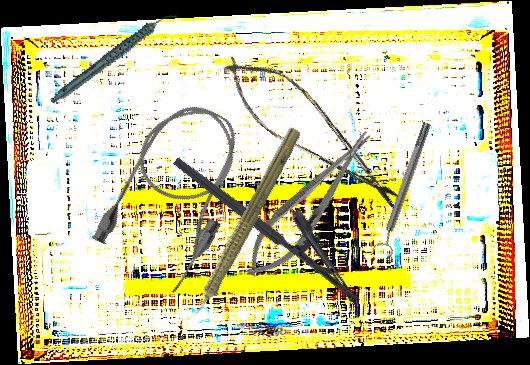Cannula: (86, 89, 265, 298)
Fixation Ring: (370, 119, 439, 259)
Handpiece: (175, 121, 306, 336), (37, 10, 190, 105)
Micro Scissor: (207, 39, 420, 226)
Needle Holder: (171, 130, 382, 308), (232, 119, 387, 291)
